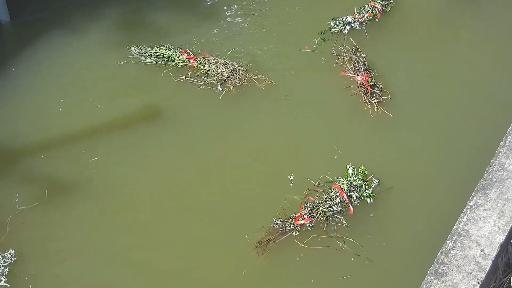twig: (248, 165, 387, 264), (122, 36, 270, 102), (338, 44, 397, 125), (328, 0, 404, 34)
